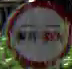No overtake: (4, 0, 71, 62)
